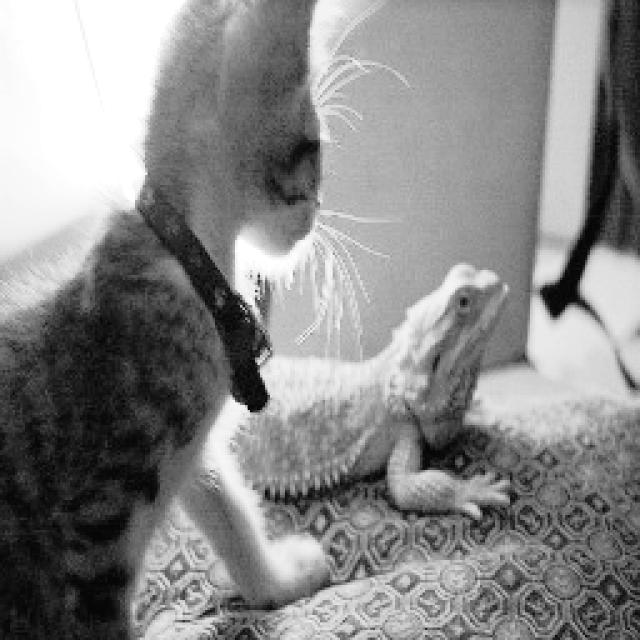cat: (6, 0, 363, 640)
